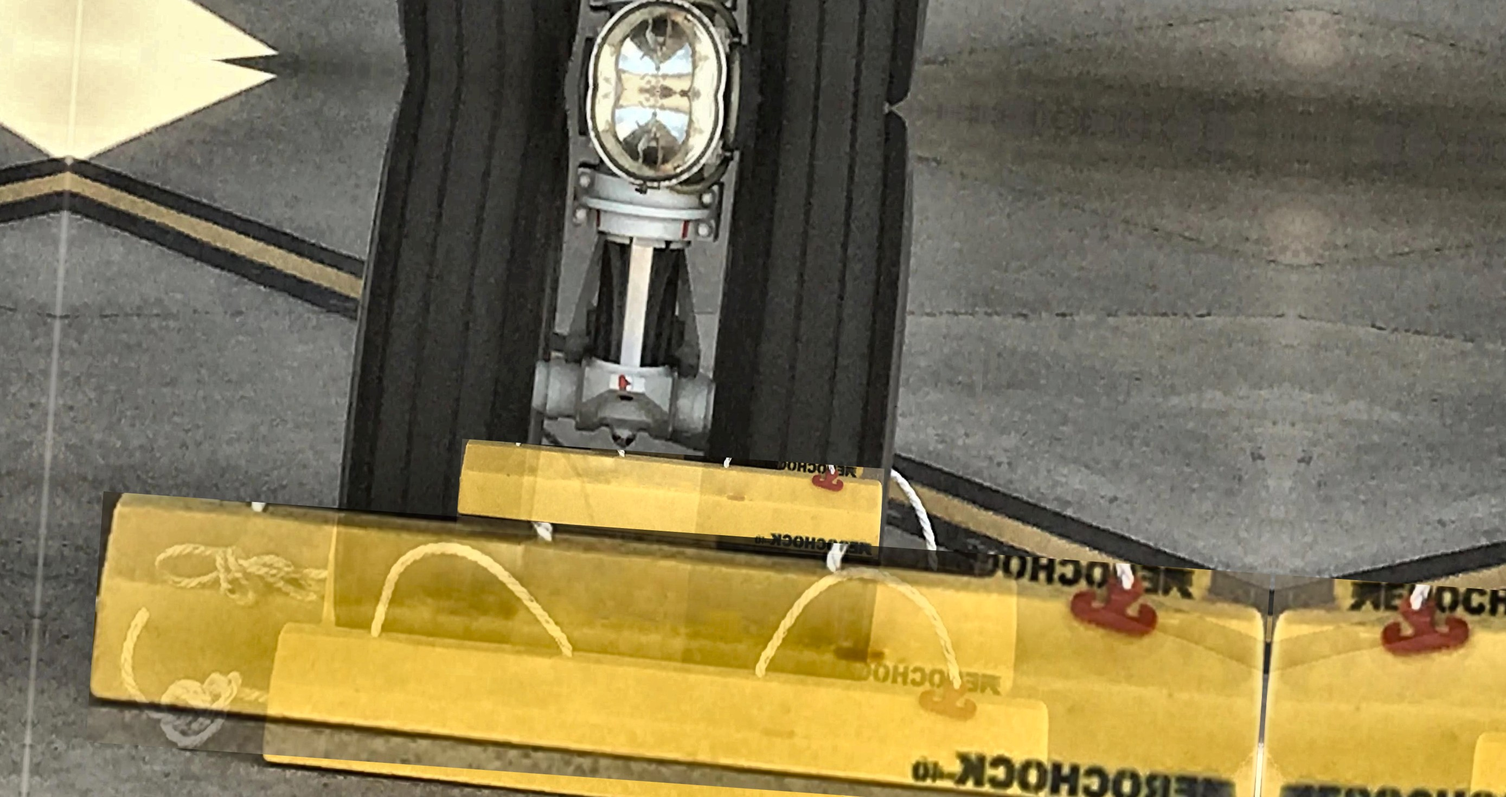chock: (86, 491, 1271, 797), (260, 623, 1053, 797), (318, 515, 1023, 693), (456, 439, 884, 559)
wheel: (332, 75, 578, 646), (687, 96, 921, 682)
